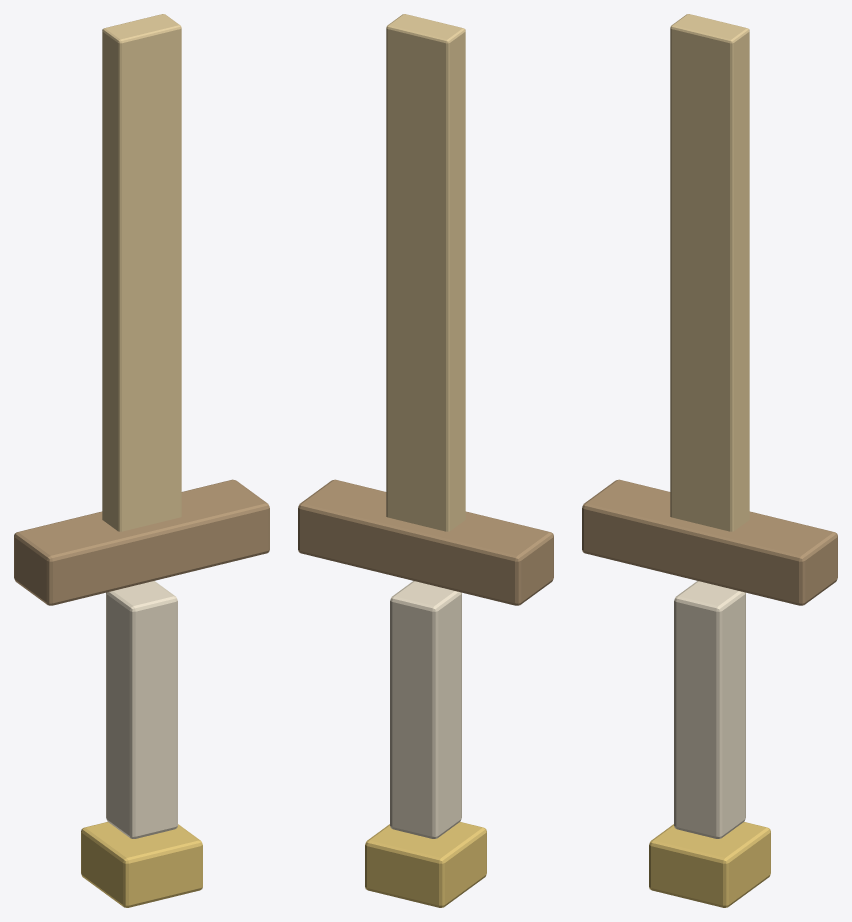
Rendered from weapon_brindle_dagger.glb.
The picture shows the model from 3 angles, left to right: view 1: azimuth 30°, elevation 25°; view 2: azimuth 150°, elevation 25°; view 3: azimuth 330°, elevation 25°; orthographic projection.
Visible parts, largest first — view 1: Blade, Crossguard, Grip, Pommel; view 2: Blade, Crossguard, Grip, Pommel; view 3: Blade, Crossguard, Grip, Pommel.
Boxes of the visible parts, bbox=[...] form: Blade: bbox=[102, 14, 181, 531]; Crossguard: bbox=[14, 479, 269, 605]; Grip: bbox=[106, 581, 177, 838]; Pommel: bbox=[81, 822, 202, 907]; Blade: bbox=[386, 14, 465, 531]; Crossguard: bbox=[298, 479, 553, 605]; Grip: bbox=[390, 581, 461, 838]; Pommel: bbox=[365, 822, 486, 907]; Blade: bbox=[670, 14, 749, 531]; Crossguard: bbox=[582, 479, 837, 605]; Grip: bbox=[674, 581, 745, 838]; Pommel: bbox=[649, 822, 770, 907].
Size of the model in its own units: 0.14 by 0.515 by 0.05.
